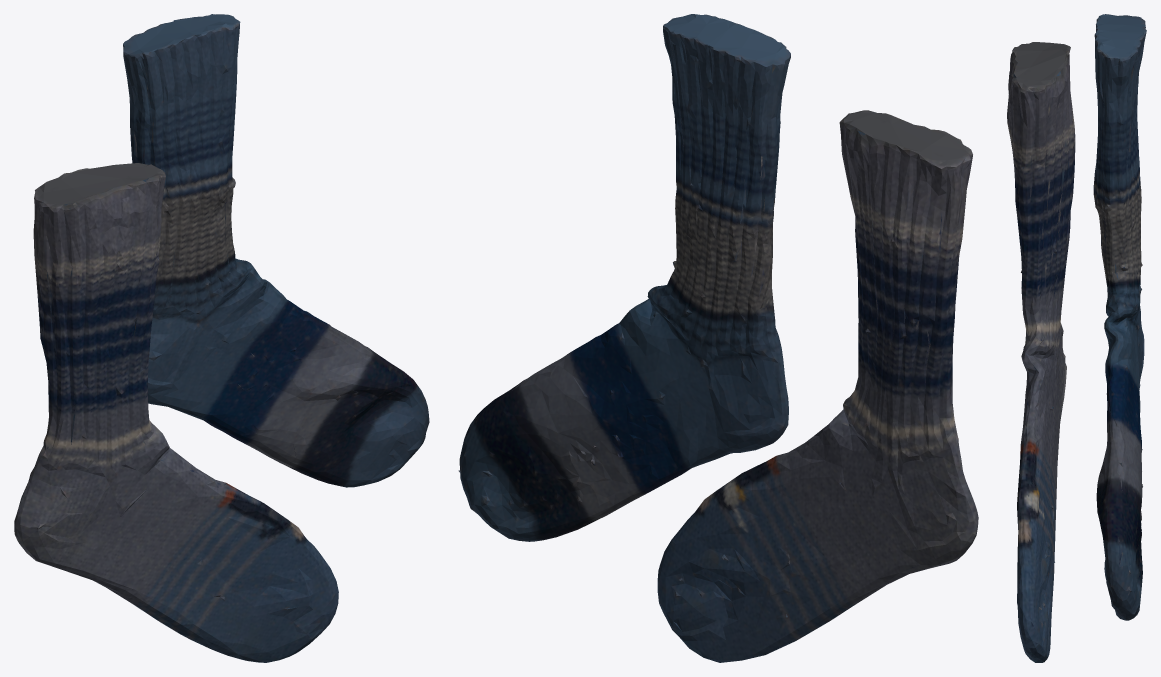
File: 64AB9AAE-ABA6-E043-94D0-EC5CE4450E7C_2k.glb
The picture shows the model from 3 angles, left to right: view 1: azimuth 30°, elevation 25°; view 2: azimuth 150°, elevation 25°; view 3: azimuth 270°, elevation 25°; orthographic projection. The views are drawn at different scales.
Parts seen in each view (by area): view 1: Widerstandssocken_8.6k_2k; view 2: Widerstandssocken_8.6k_2k; view 3: Widerstandssocken_8.6k_2k.
Part boxes in pixels (bbox=[...]): Widerstandssocken_8.6k_2k: bbox=[14, 14, 429, 662]; Widerstandssocken_8.6k_2k: bbox=[458, 14, 978, 662]; Widerstandssocken_8.6k_2k: bbox=[1007, 14, 1146, 662].
Bounding box in the file's own units: 0.3448 × 0.4606 × 0.0962.
1 material, 1 textured.
